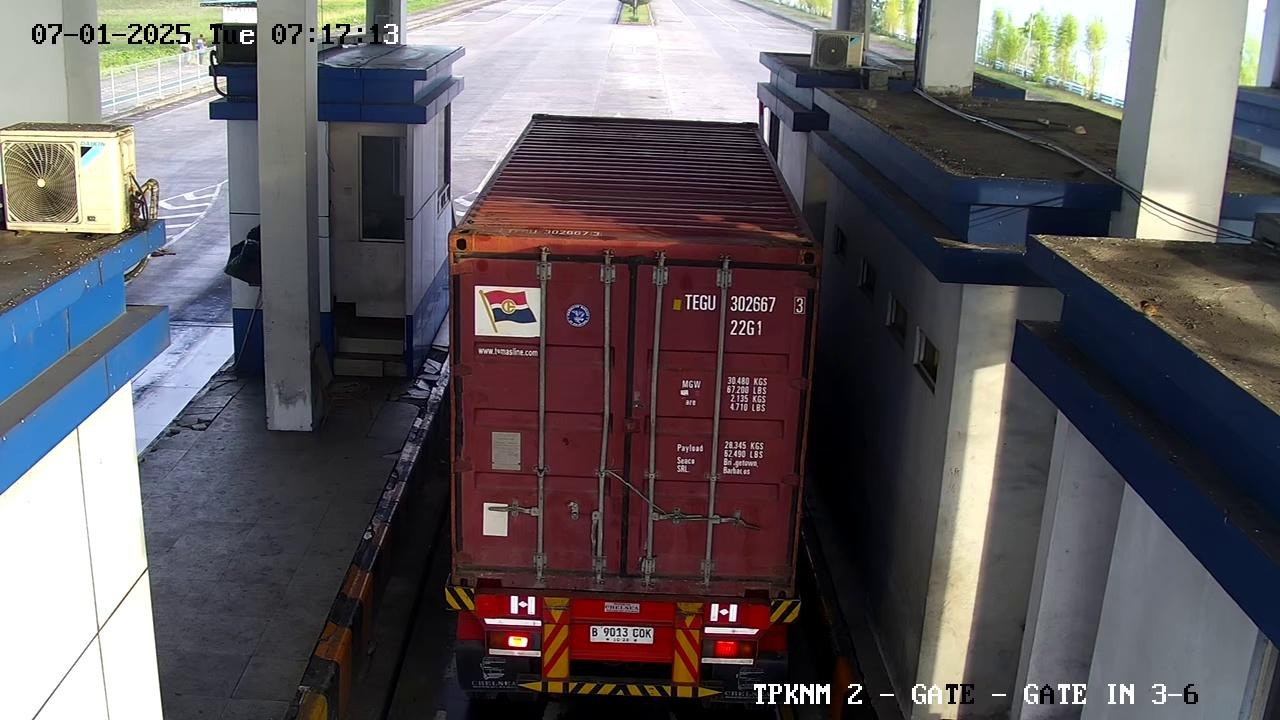Container_ID: (674, 288, 820, 315)
plate_number: (578, 615, 666, 655)
